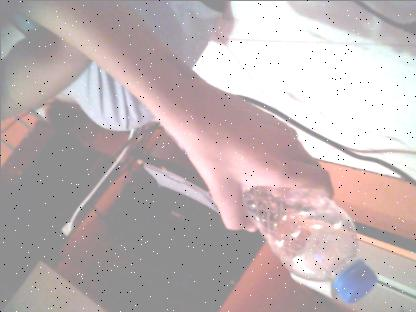Plastic Bottle: (235, 159, 379, 305)
